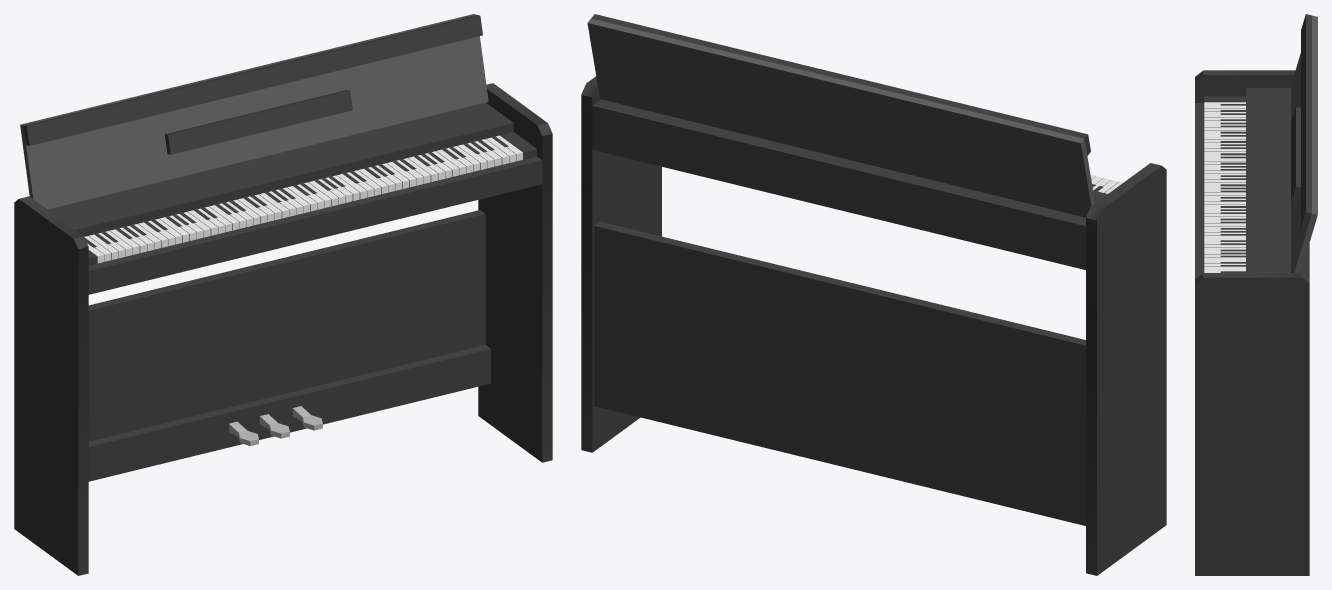
The model's file is musical_instrument.glb.
The picture shows the model from 3 angles, left to right: view 1: azimuth 30°, elevation 25°; view 2: azimuth 150°, elevation 25°; view 3: azimuth 270°, elevation 25°; orthographic projection. The views are drawn at different scales.
Visible parts, largest first — view 1: musical_instrument_001; view 2: musical_instrument_001; view 3: musical_instrument_001.
Boxes of the visible parts, x1,y1,x2,y2 form: musical_instrument_001: (14, 14, 552, 575); musical_instrument_001: (581, 14, 1166, 575); musical_instrument_001: (1195, 14, 1317, 575).
Bounding box in the file's own units: 1.24 × 1.01 × 0.3119.
1 material, 1 textured.
